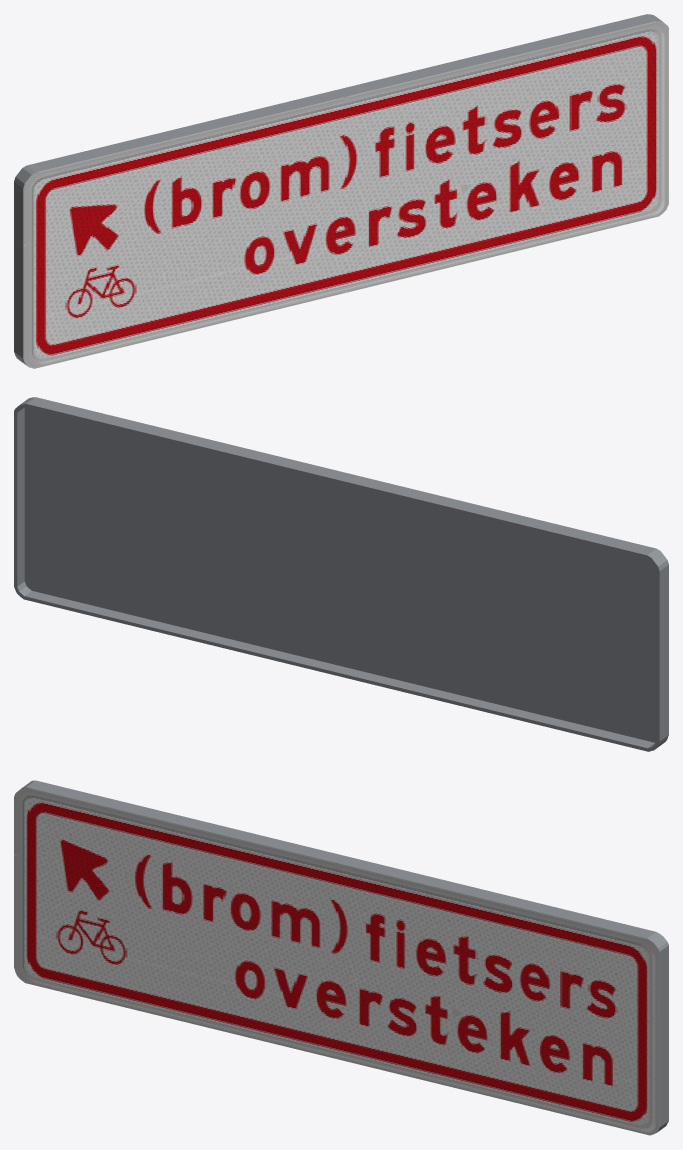
3 views of the same model, one above another, from view 1: azimuth 30°, elevation 25°; view 2: azimuth 150°, elevation 25°; view 3: azimuth 330°, elevation 25° (orthographic).
Parts seen in each view (by area): view 1: cat_180a0b7f4a3645c8; view 2: cat_180a0b7f4a3645c8; view 3: cat_180a0b7f4a3645c8.
Boxes of the visible parts, x1,y1,x2,y2 form: cat_180a0b7f4a3645c8: [14, 14, 668, 368]; cat_180a0b7f4a3645c8: [14, 397, 668, 751]; cat_180a0b7f4a3645c8: [14, 780, 668, 1135].
Bounding box in the file's own units: 0.6 × 0.015 × 0.1742.
Materials: 2 (1 with a texture image).
